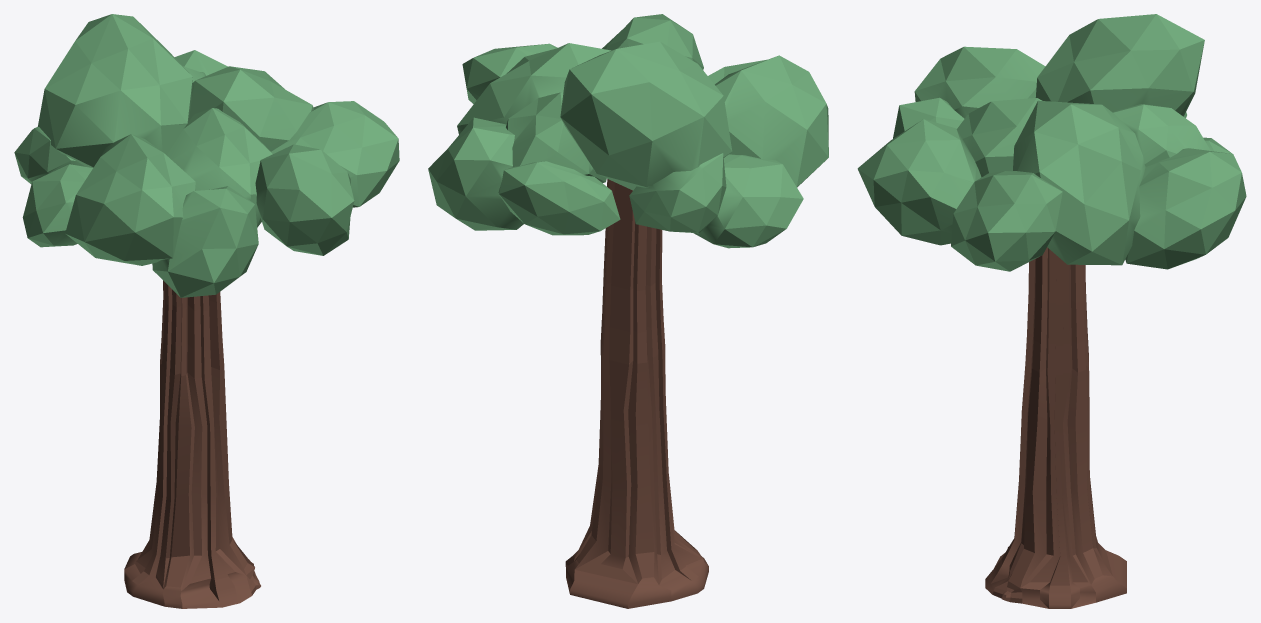
The model's file is bigTreeGrouped.fbx.
3 views of the same model, side by side, from view 1: azimuth 30°, elevation 25°; view 2: azimuth 150°, elevation 25°; view 3: azimuth 270°, elevation 25° (orthographic). The views are drawn at different scales.
Parts seen in each view (by area): view 1: leaves, trunk; view 2: leaves, trunk; view 3: leaves, trunk.
Boxes of the visible parts, left/top/right/bottom form: leaves: left=14, top=14, right=399, bottom=297; trunk: left=124, top=280, right=260, bottom=608; leaves: left=428, top=14, right=828, bottom=248; trunk: left=565, top=179, right=708, bottom=608; leaves: left=857, top=14, right=1246, bottom=271; trunk: left=985, top=247, right=1126, bottom=608.
Bounding box in the file's own units: 44.37 × 68.99 × 44.09.
